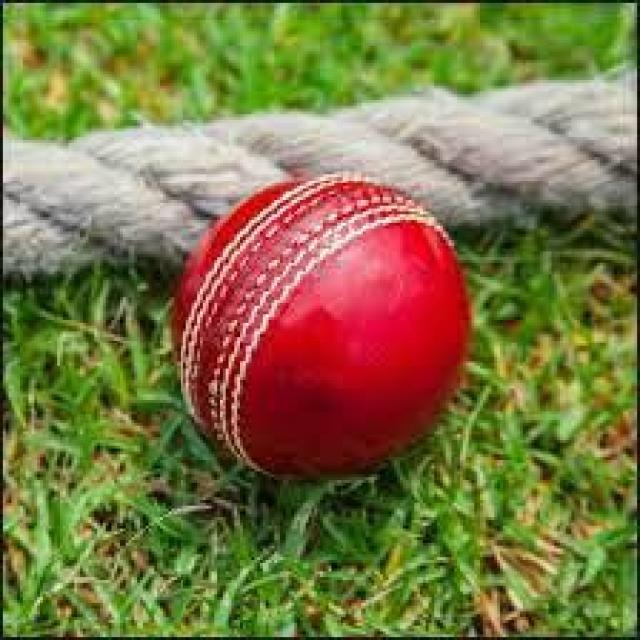ball: (175, 177, 474, 480)
